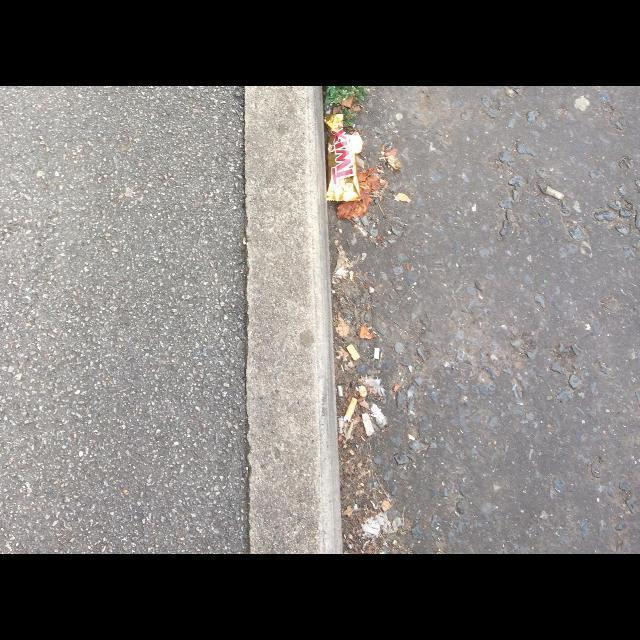Plastic: (324, 114, 362, 200)
